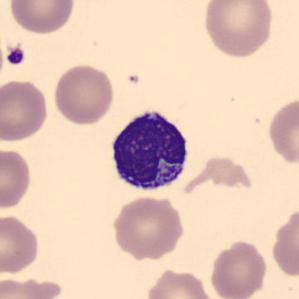Lymphocyte: (104, 103, 194, 198)
Platelets: (4, 45, 27, 67)
RBC: (110, 194, 187, 260), (200, 0, 275, 60), (52, 62, 116, 126), (208, 238, 270, 299), (0, 76, 50, 144), (0, 213, 42, 275), (7, 0, 77, 36), (265, 95, 299, 167), (144, 267, 219, 299), (0, 145, 34, 211), (268, 205, 298, 279), (0, 275, 63, 299)
